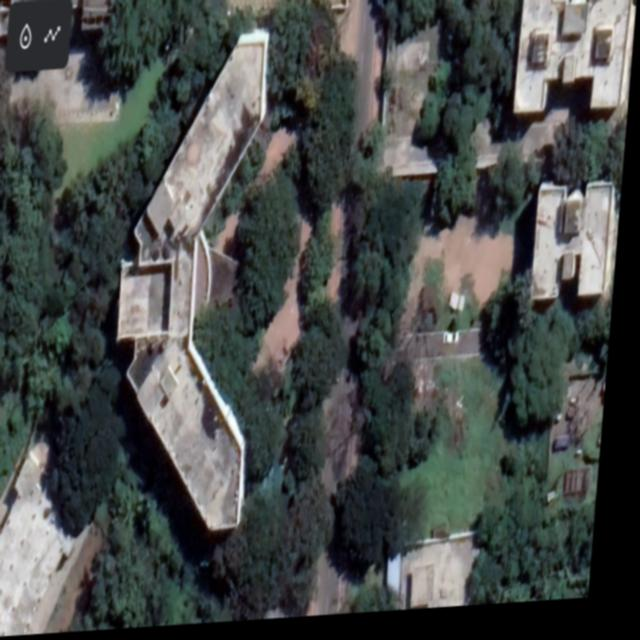Batiment: (123, 34, 269, 532), (515, 0, 637, 121), (536, 190, 619, 306)
